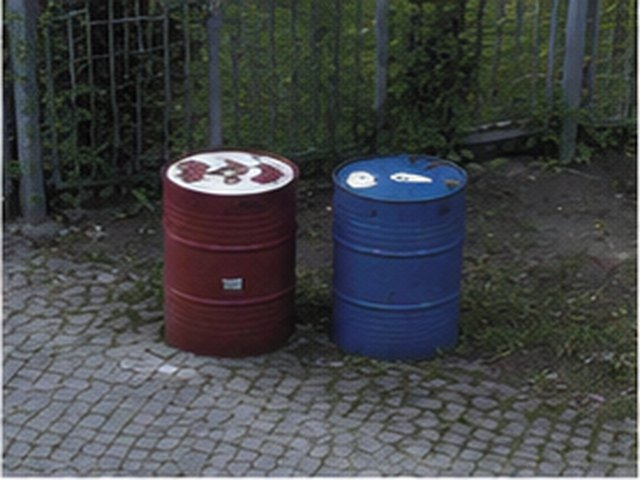container: (163, 149, 297, 356), (331, 154, 466, 359)
